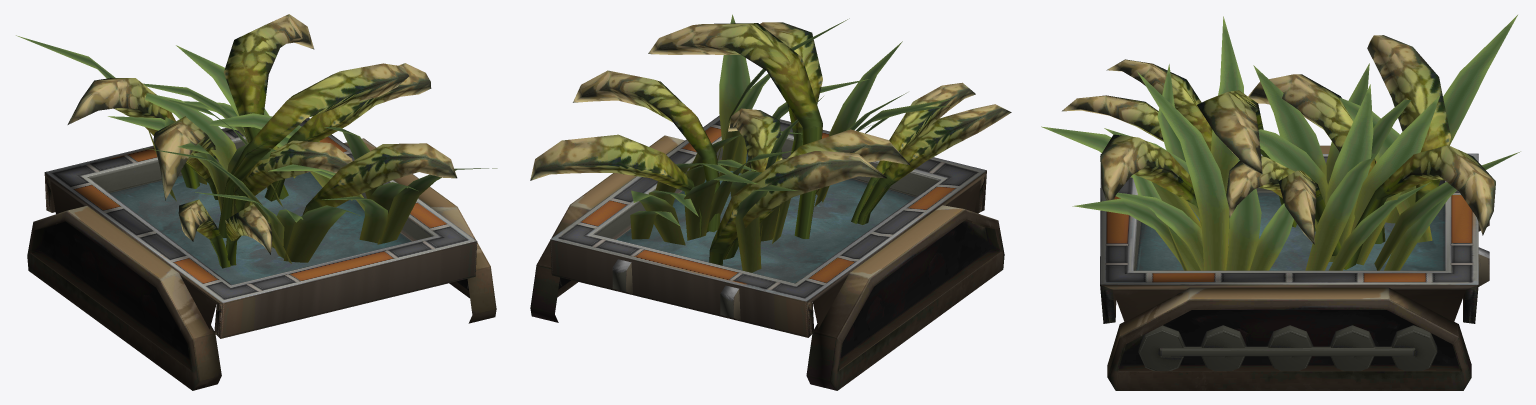
The model's file is trap_456_xbfarmm_01.fbx.
3 views of the same model, side by side, from view 1: azimuth 30°, elevation 25°; view 2: azimuth 150°, elevation 25°; view 3: azimuth 270°, elevation 25° (orthographic). The views are drawn at different scales.
Parts seen in each view (by area): view 1: trap_456_xbfarmm_01; view 2: trap_456_xbfarmm_01; view 3: trap_456_xbfarmm_01.
Boxes of the visible parts, x1,y1,x2,y2 form: trap_456_xbfarmm_01: (16, 14, 497, 390); trap_456_xbfarmm_01: (530, 14, 1011, 390); trap_456_xbfarmm_01: (1041, 15, 1520, 390).
Bounding box in the file's own units: 1.09 × 0.7159 × 1.26.
Materials: 1 (1 with a texture image).
